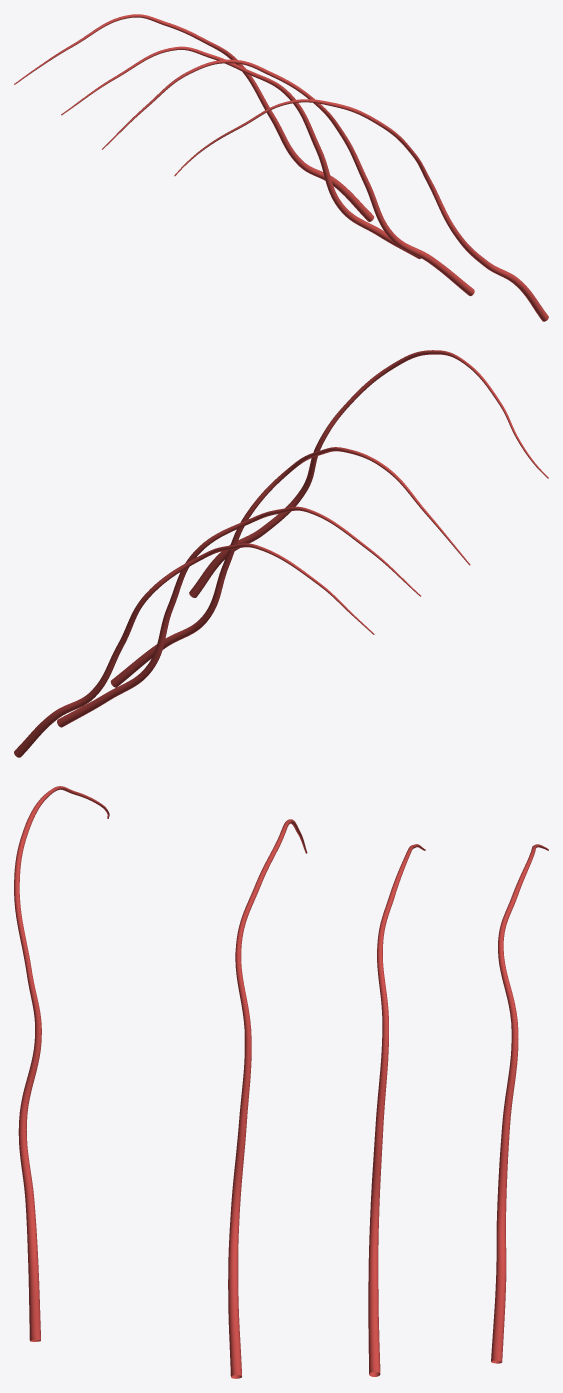
The picture shows the model from 3 angles, top to bottom: view 1: azimuth 30°, elevation 25°; view 2: azimuth 150°, elevation 25°; view 3: azimuth 270°, elevation 25°; orthographic projection. The views are drawn at different scales.
Parts seen in each view (by area): view 1: 右侧腰动脉; view 2: 右侧腰动脉; view 3: 右侧腰动脉.
Part boxes in pixels (x1,y1,x2,y2): 右侧腰动脉: (14, 14, 548, 321); 右侧腰动脉: (14, 350, 548, 757); 右侧腰动脉: (14, 786, 548, 1378).
Bounding box in the file's own units: 0.1463 × 0.1216 × 0.1392.
